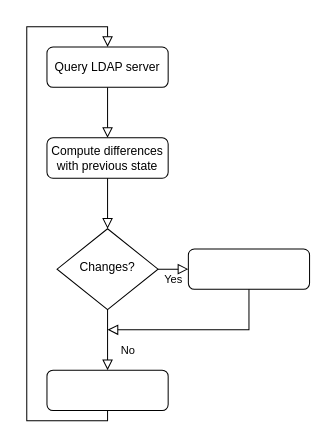
Some shapes in this 327 by 448 pixel diagram are drawn without their labels. Each missing label, with the centre of its shape:
Execute triggers: the point at 248,268
Save current state: the point at 107,390
